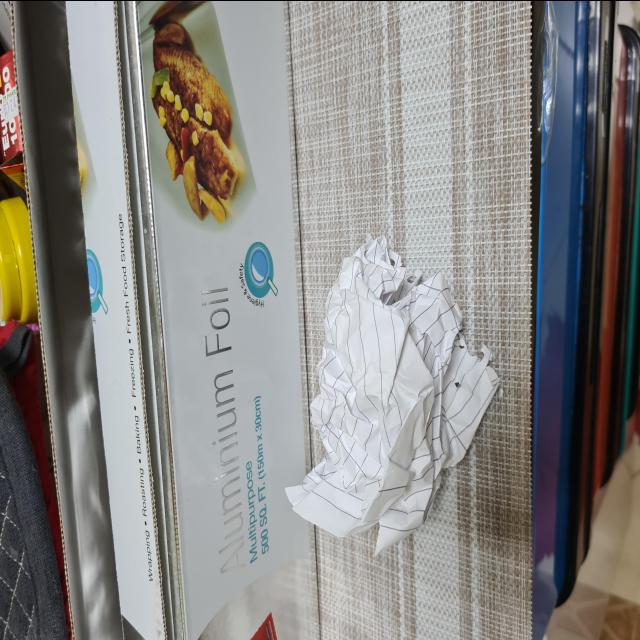kertas: (309, 244, 495, 556)
